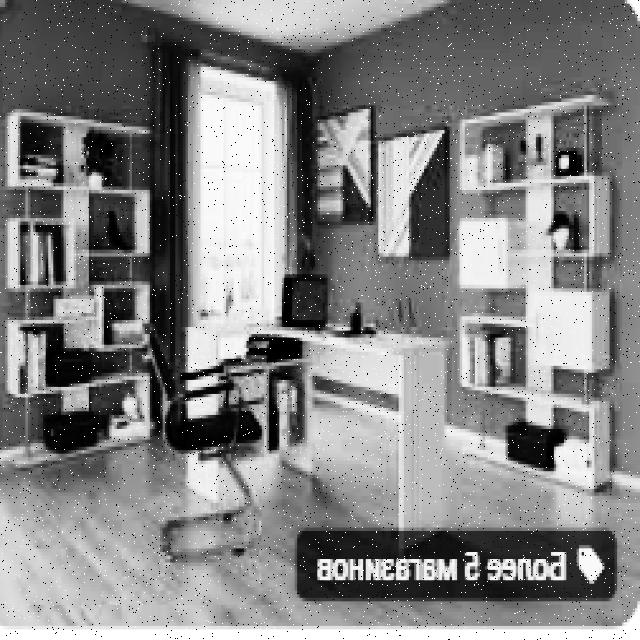book: (145, 320, 264, 563)
table: (183, 316, 452, 531)
